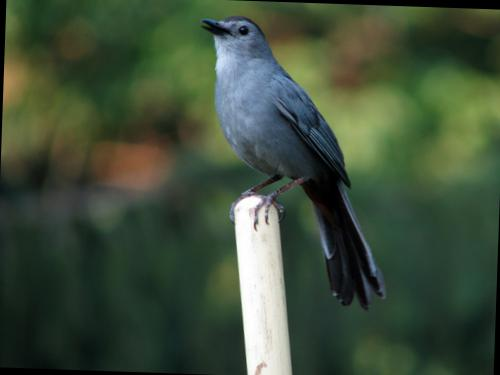bird: (180, 5, 401, 318)
